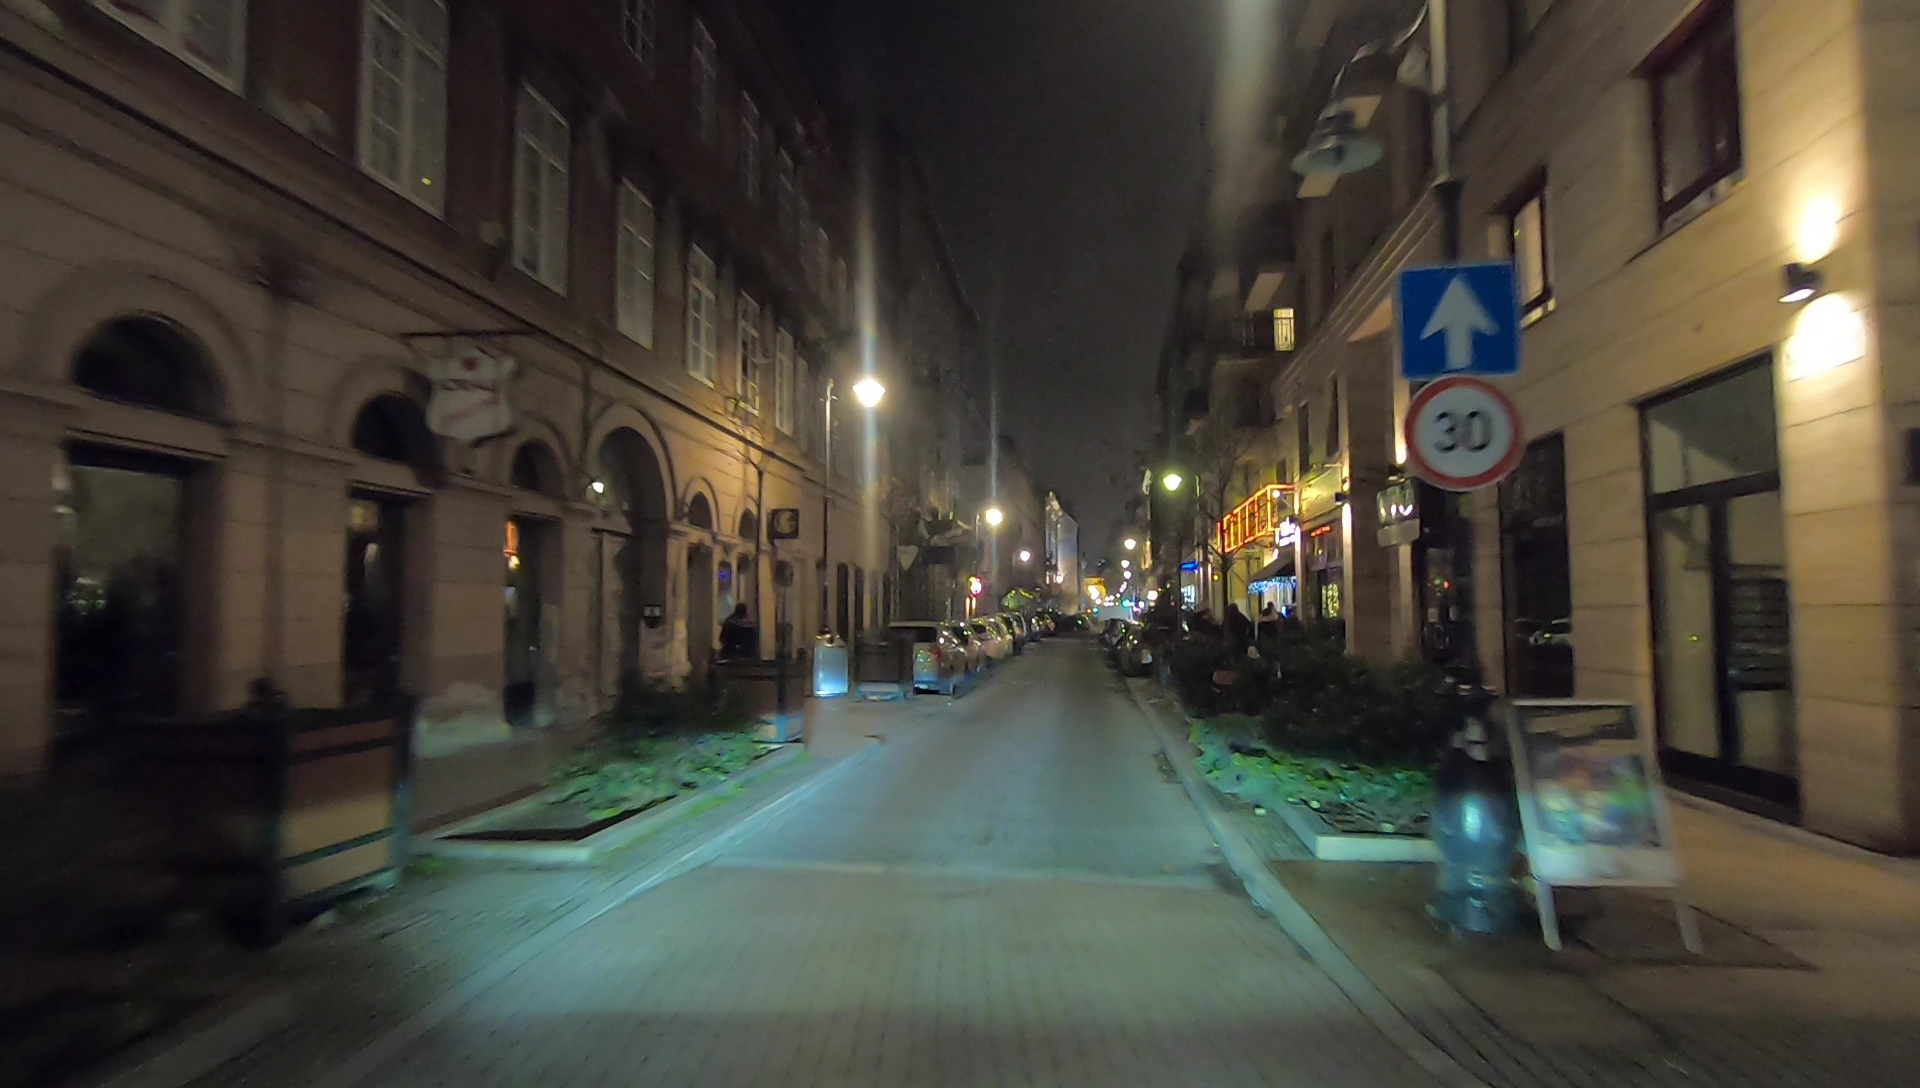person: (725, 604, 758, 691), (1232, 604, 1256, 673), (1258, 604, 1278, 678)
